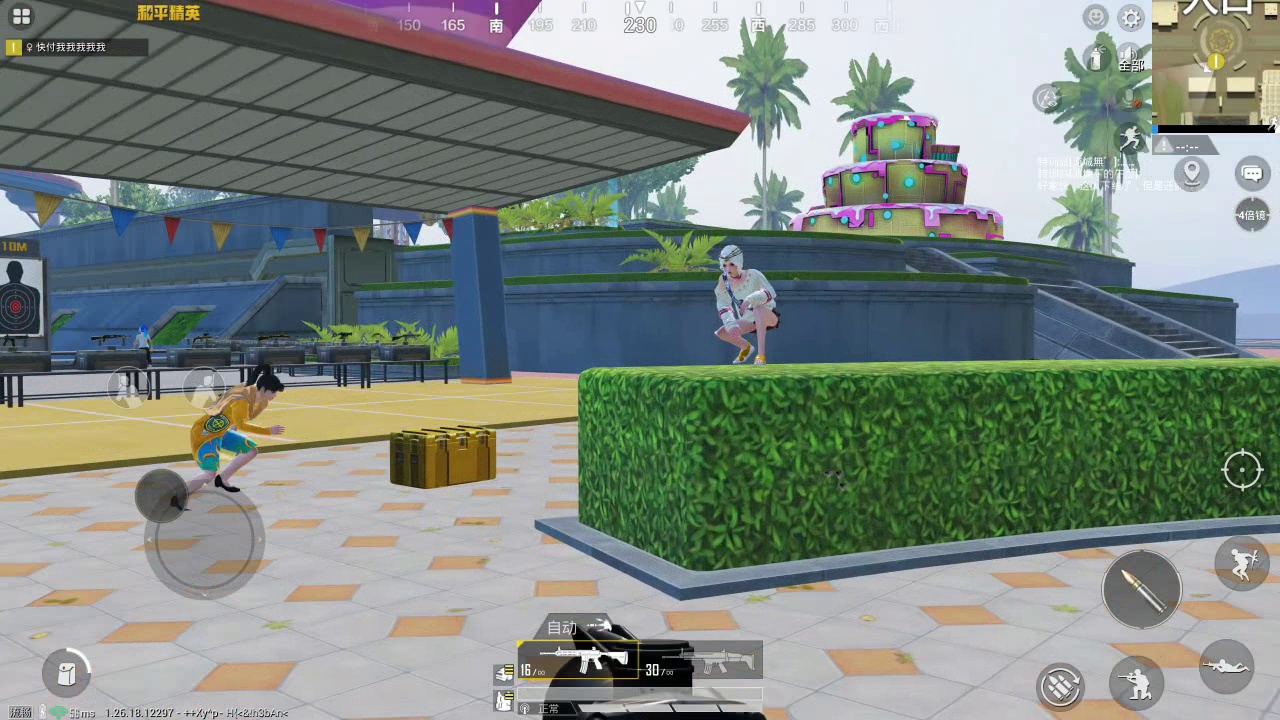enemy: (172, 369, 287, 502), (712, 244, 781, 368), (130, 323, 154, 361)
